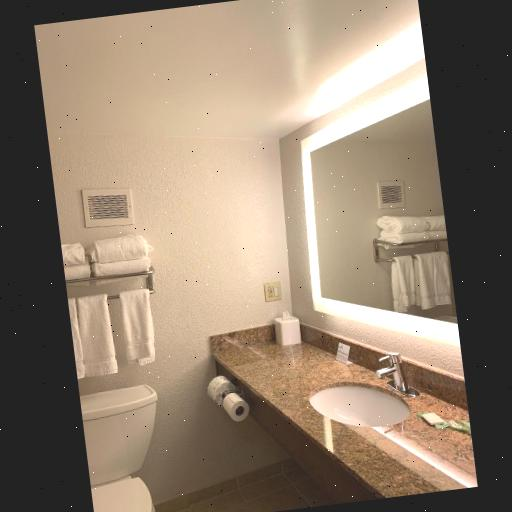clean mirror: (280, 72, 456, 350)
clean_sink: (203, 313, 479, 498)
clean_toilet: (77, 381, 177, 512)
folded_towel: (68, 286, 162, 378), (60, 232, 155, 284), (388, 250, 453, 314), (377, 209, 448, 249)
